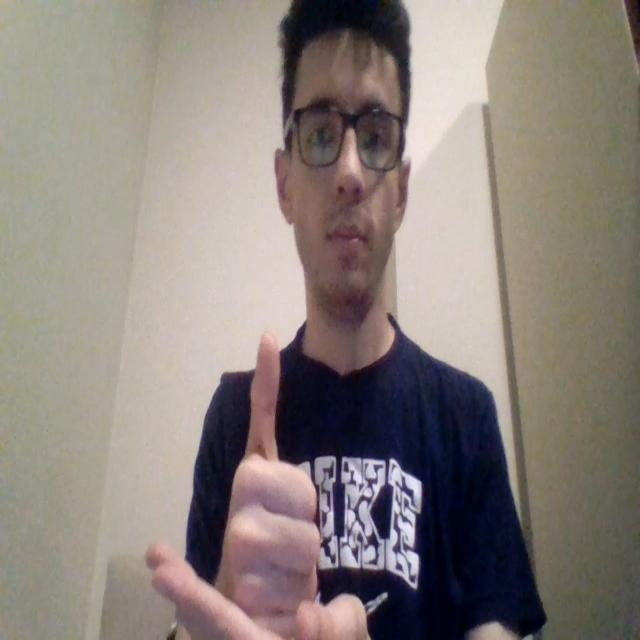help: (148, 324, 373, 640)
